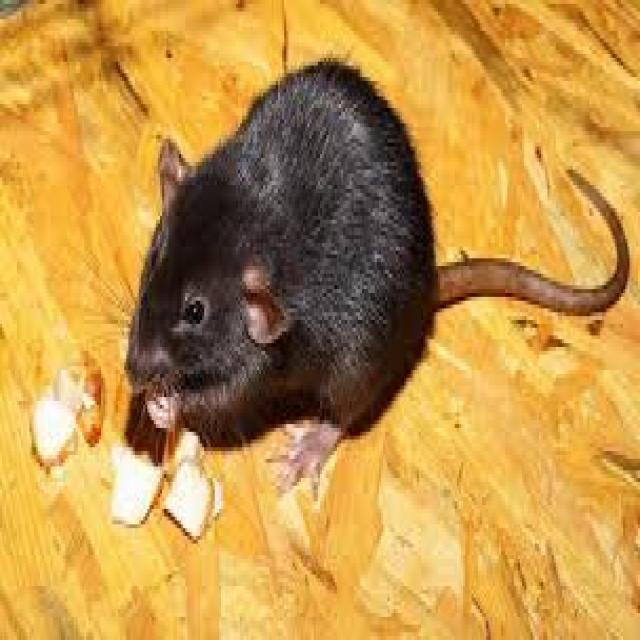rat: (133, 62, 450, 490)
